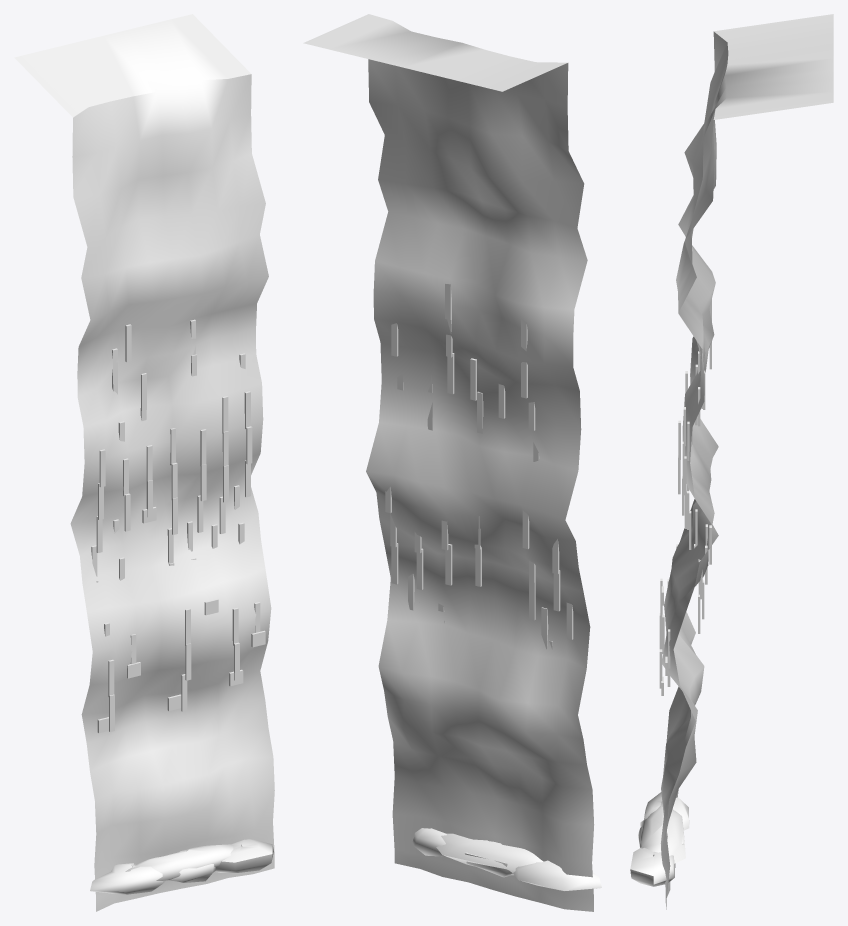
File: cliff_vines.glb
3 views of the same model, side by side, from view 1: azimuth 30°, elevation 25°; view 2: azimuth 150°, elevation 25°; view 3: azimuth 270°, elevation 25° (orthographic). The views are drawn at different scales.
Visible parts, largest first — view 1: CliffVines; view 2: CliffVines; view 3: CliffVines.
Boxes of the visible parts, x1,y1,x2,y2 form: CliffVines: (14,14,274,911); CliffVines: (303,14,601,911); CliffVines: (630,14,833,909).
Size of the model in its own units: 4.56 by 18.7 by 4.26.
Materials: 1 (1 with a texture image).
